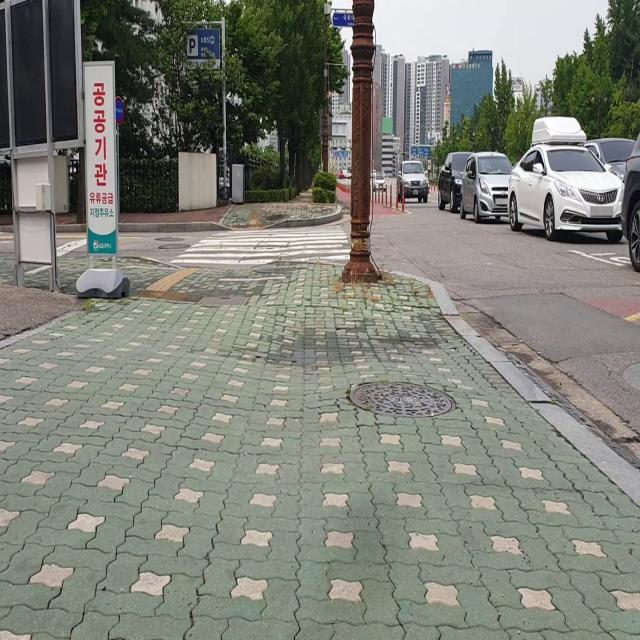횡단보도: (168, 224, 352, 266)
